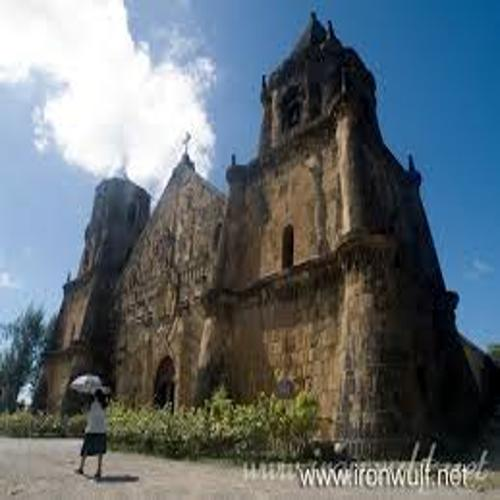Miagao Church: (46, 12, 459, 462)
